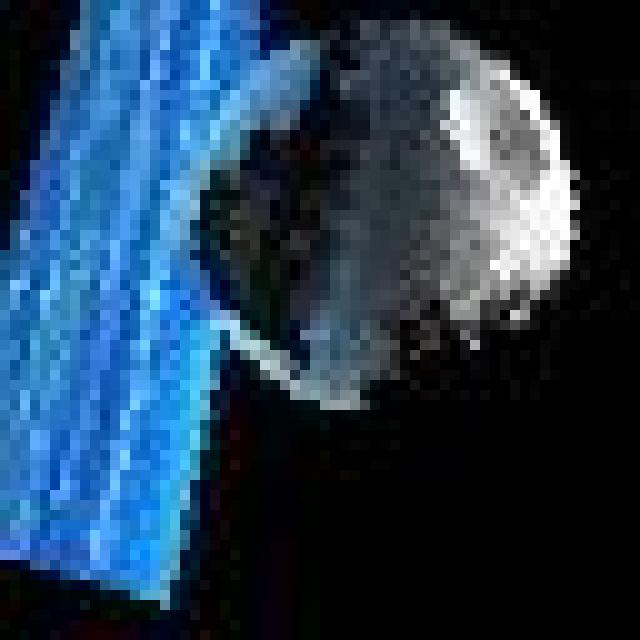Death Star: (199, 13, 581, 411)
